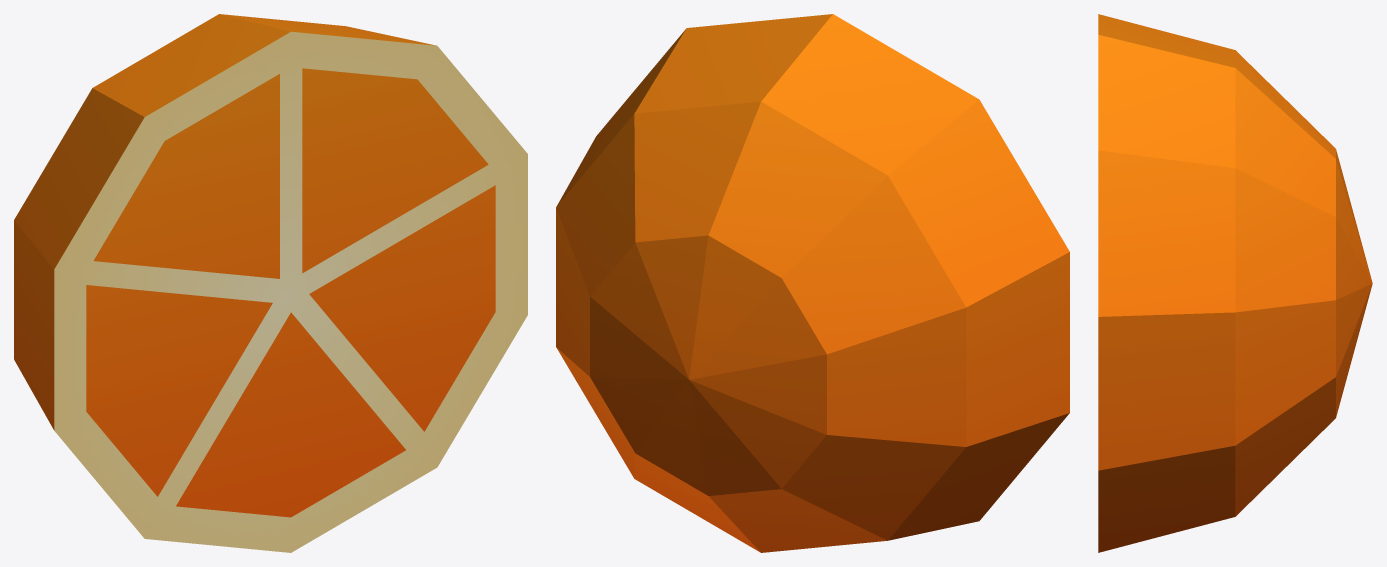
File: Orange Half.fbx
3 views of the same model, side by side, from view 1: azimuth 30°, elevation 25°; view 2: azimuth 150°, elevation 25°; view 3: azimuth 270°, elevation 25° (orthographic). The views are drawn at different scales.
Parts seen in each view (by area): view 1: Orange Half; view 2: Orange Half; view 3: Orange Half.
Boxes of the visible parts, x1,y1,x2,y2 form: Orange Half: [14, 14, 527, 552]; Orange Half: [556, 14, 1069, 552]; Orange Half: [1098, 14, 1372, 552].
Size of the model in its own units: 11.49 by 12.08 by 6.04.
